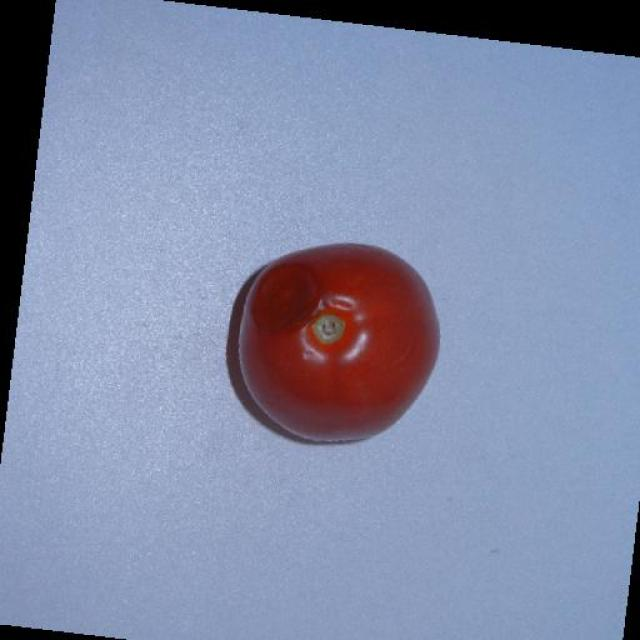Stale_tomato: (232, 249, 430, 427)
